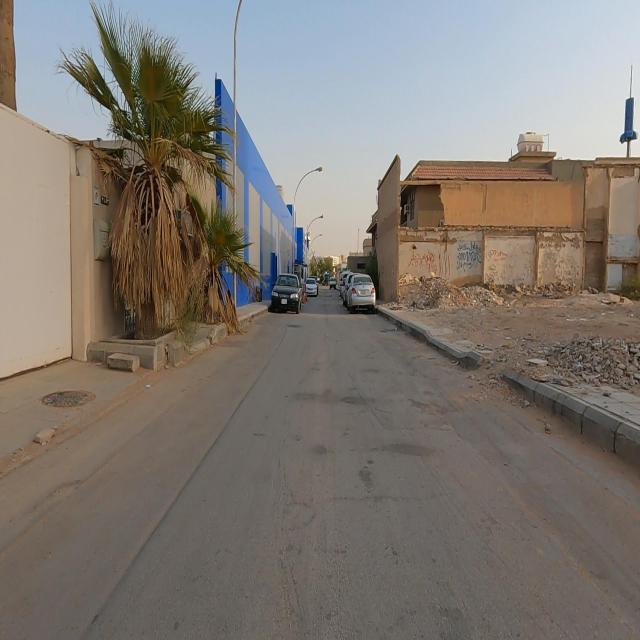Graffiti: (458, 241, 482, 273), (409, 253, 438, 275), (491, 250, 504, 263)
